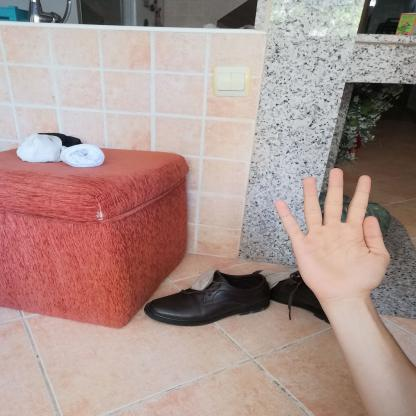SHEEN: (266, 161, 400, 304)
